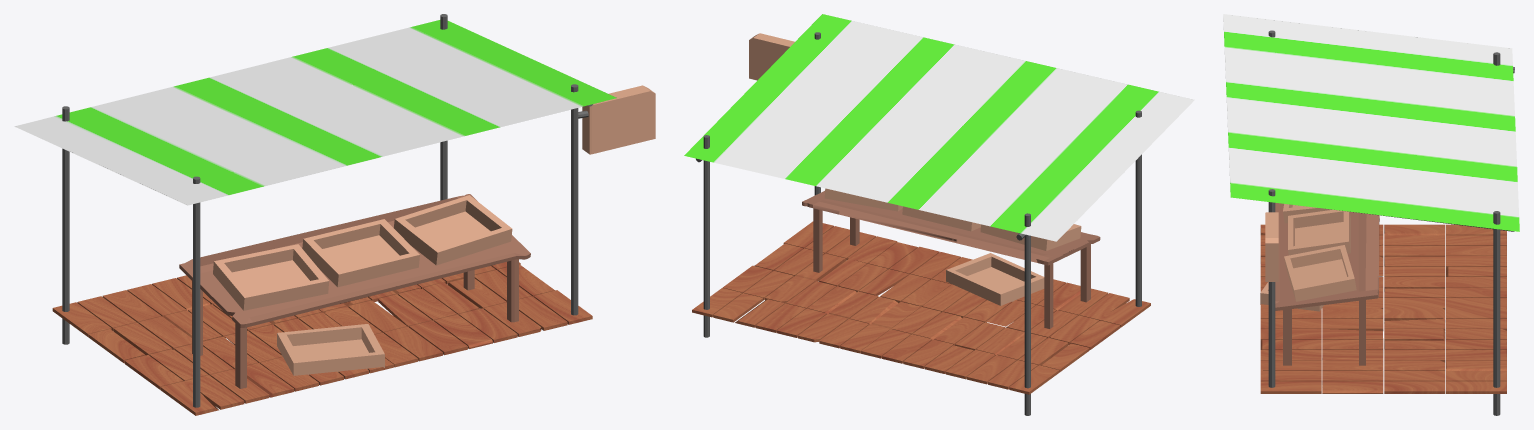
Rendered from StoreToghter.glb.
The picture shows the model from 3 angles, left to right: view 1: azimuth 30°, elevation 25°; view 2: azimuth 150°, elevation 25°; view 3: azimuth 270°, elevation 25°; orthographic projection. The views are drawn at different scales.
Parts seen in each view (by area): view 1: Plane; view 2: Plane; view 3: Plane.
Part boxes in pixels (x1,y1,x2,y2): Plane: (14, 14, 655, 415); Plane: (684, 14, 1194, 415); Plane: (1223, 14, 1519, 415).
Size of what is drawn, in the model's own units: 16.26 by 8.21 by 9.76.
Materials: 5 (3 with a texture image).
